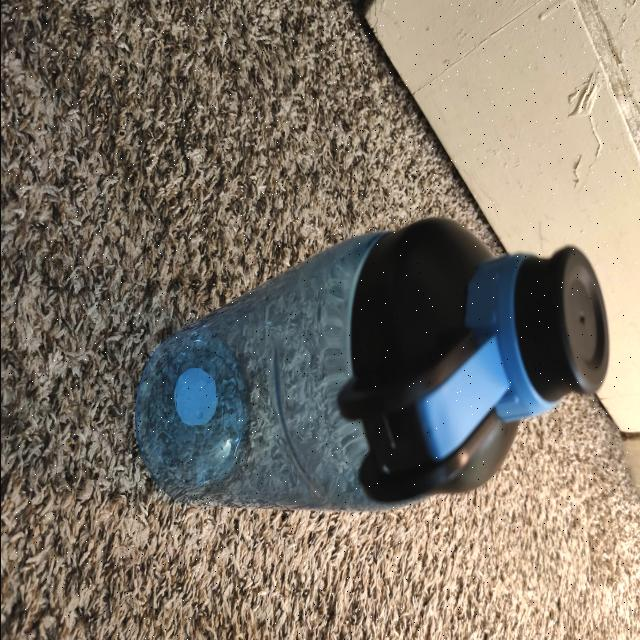bottle: (124, 222, 602, 518)
